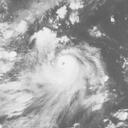cyclone: (42, 48, 93, 99)
